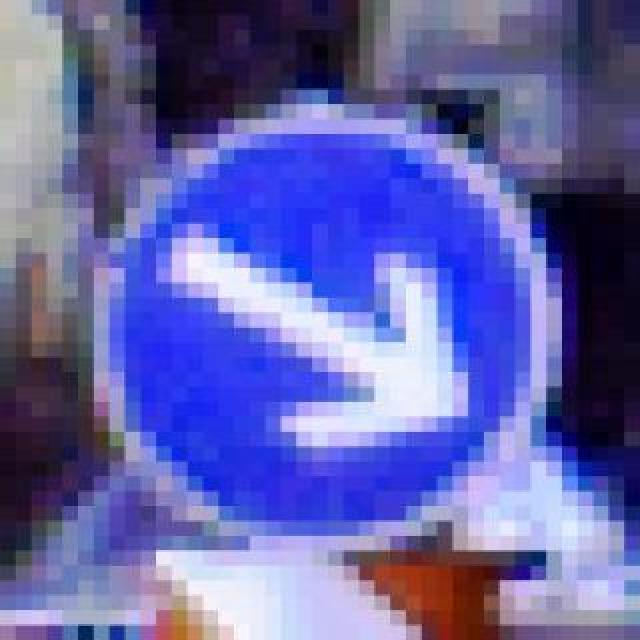keep right: (64, 90, 548, 552)
